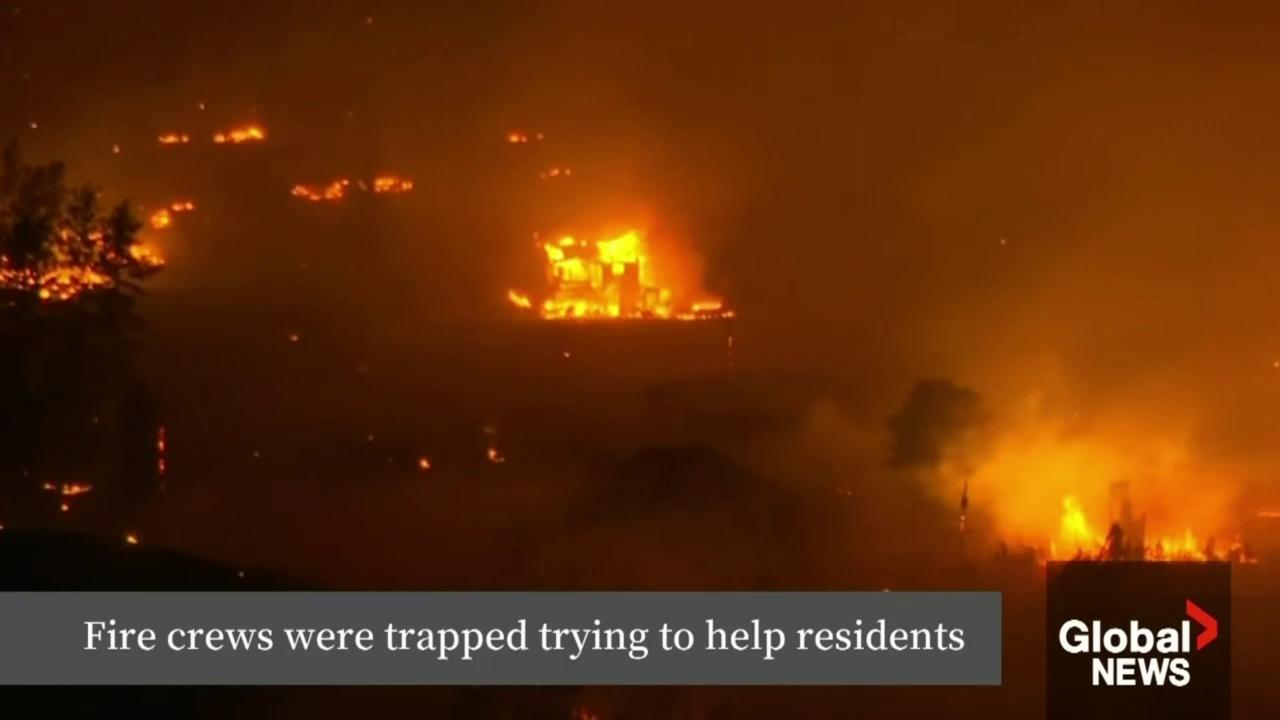fire: (500, 223, 745, 323), (0, 199, 197, 303), (1037, 480, 1261, 565), (40, 473, 95, 514), (289, 173, 356, 206), (209, 121, 270, 146), (370, 172, 417, 199), (153, 423, 172, 485), (157, 125, 197, 150), (505, 127, 547, 146), (483, 439, 510, 467), (539, 162, 575, 181), (1252, 505, 1280, 527), (417, 452, 434, 475), (123, 530, 143, 549)
smoke: (0, 0, 1280, 589)
